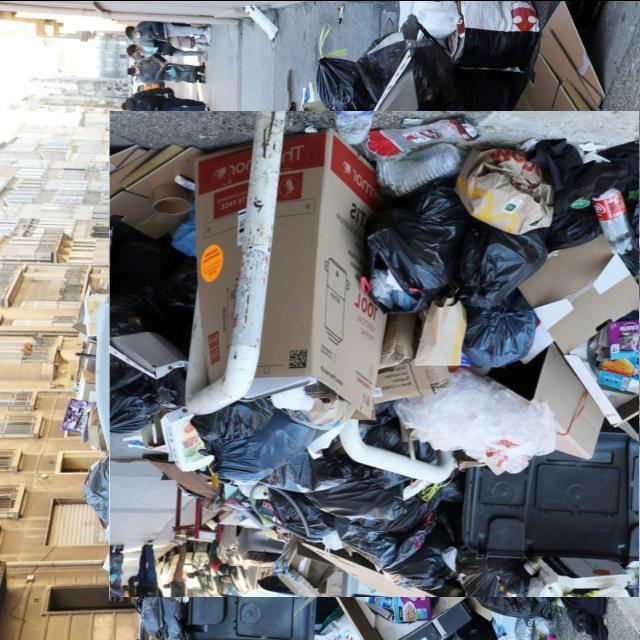Trashbag: (440, 224, 546, 305), (351, 211, 437, 310), (206, 410, 310, 480), (315, 455, 403, 520), (460, 301, 533, 374), (260, 487, 345, 538), (469, 560, 523, 602), (358, 520, 412, 555), (394, 552, 446, 584)
